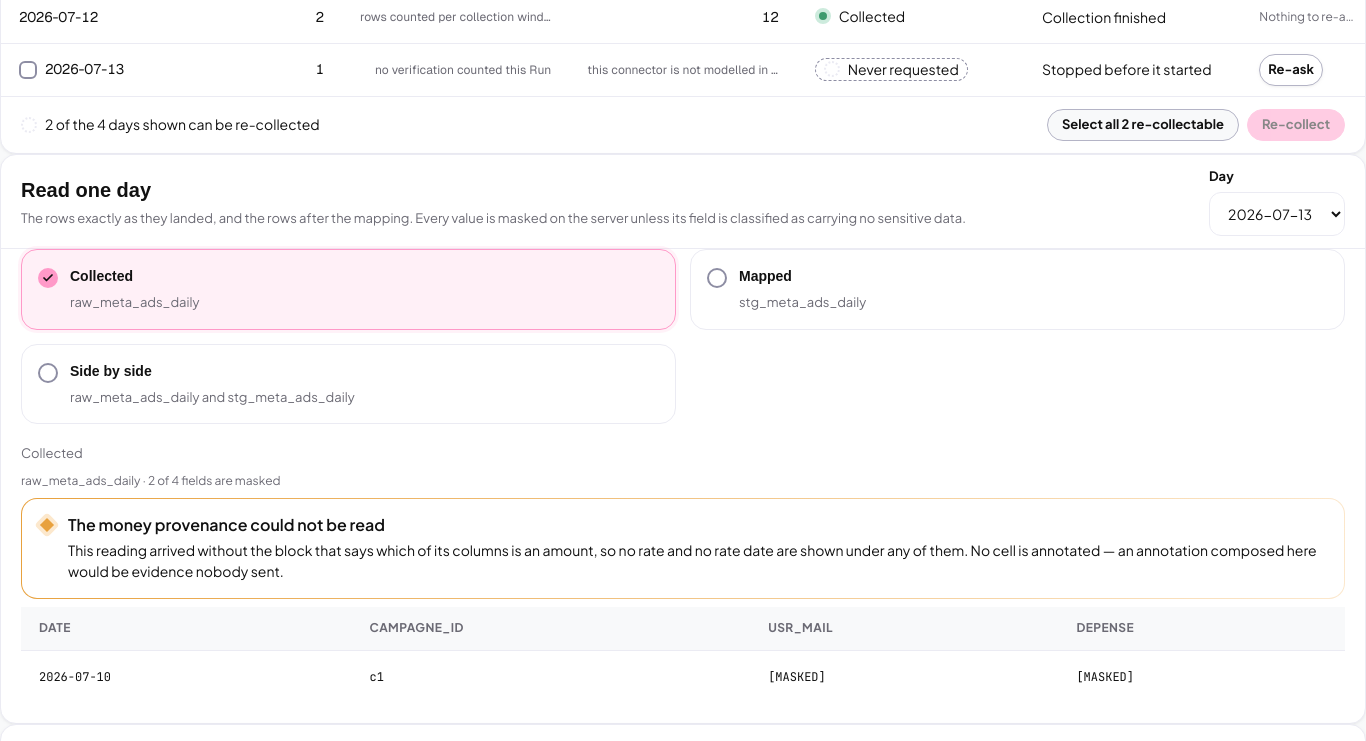
Data tab, read by day › writes the rate under the amount ON THE PAIRED ROW, not only beside it
The width and height of the screenshot is (1366, 741).
(page scrolled)
Click the radio button labelled "Side by side".
click(111, 371)  # box [21,344,676,424]
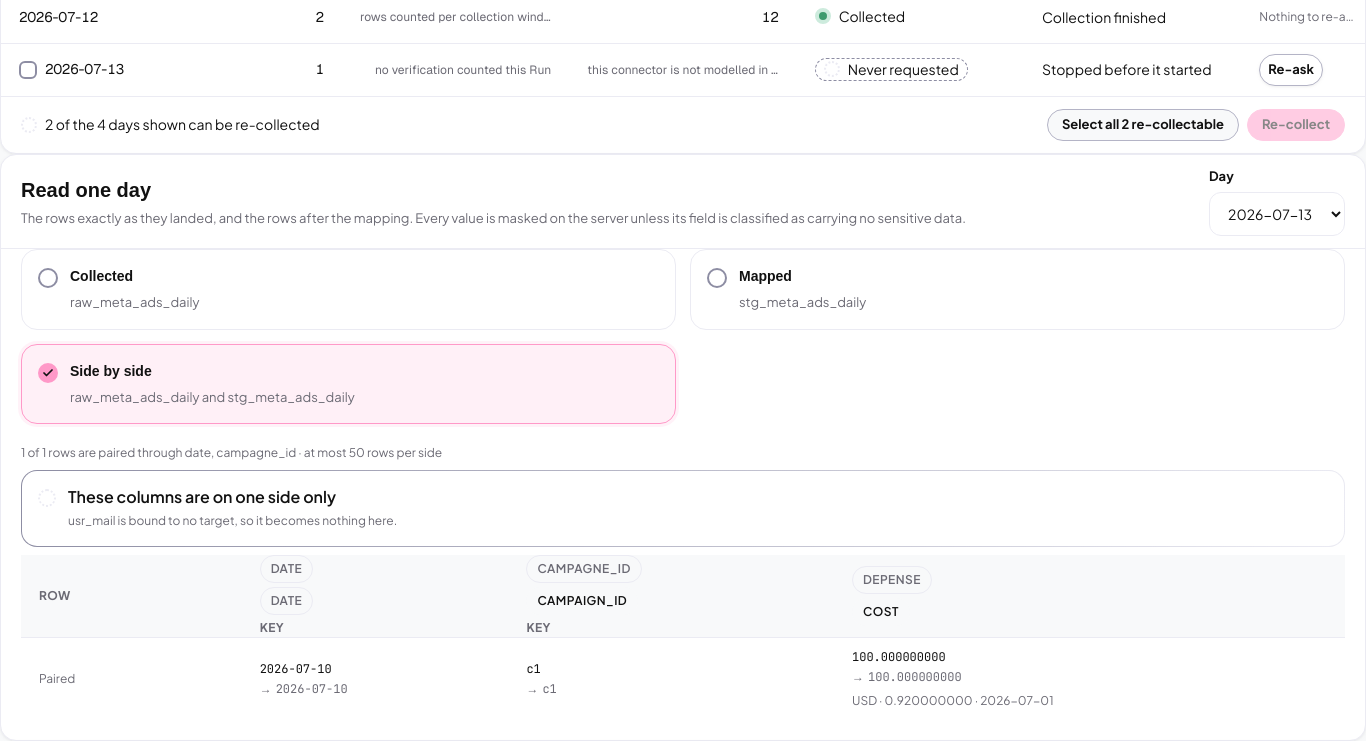
Result: the text with test id "money-line" reads "USD · 0.920000000 · 2026-07-01" at [852,693,1054,708]
Result: the number of elements with test id "money-line" is 1 at [852,693,1054,708]
